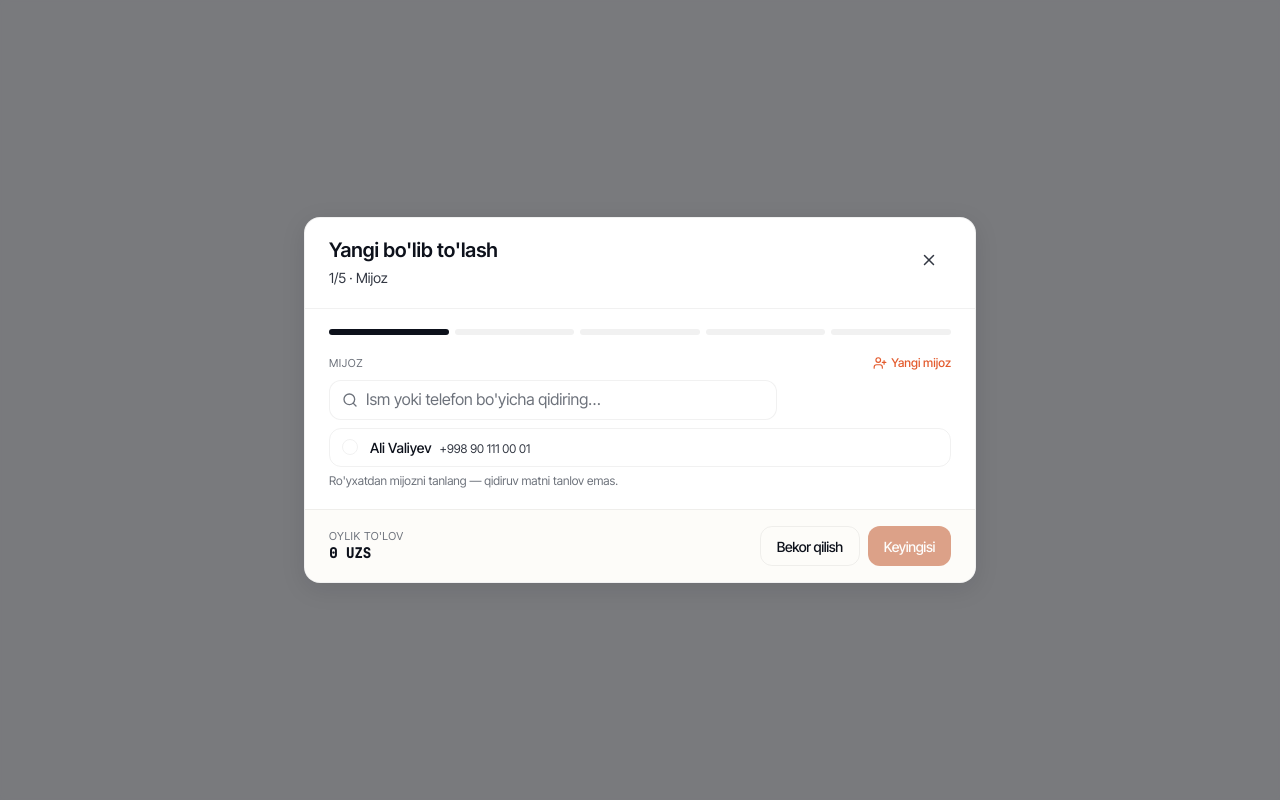
Test case: the identifier declares what it is › names both kinds rather than one ambiguous box
The width and height of the screenshot is (1280, 800).
What coordinates should you click on to do the following:
click the text "Ali Valiyev"
I would click on:
 (401, 447)
Its box is [370,438,432,456].
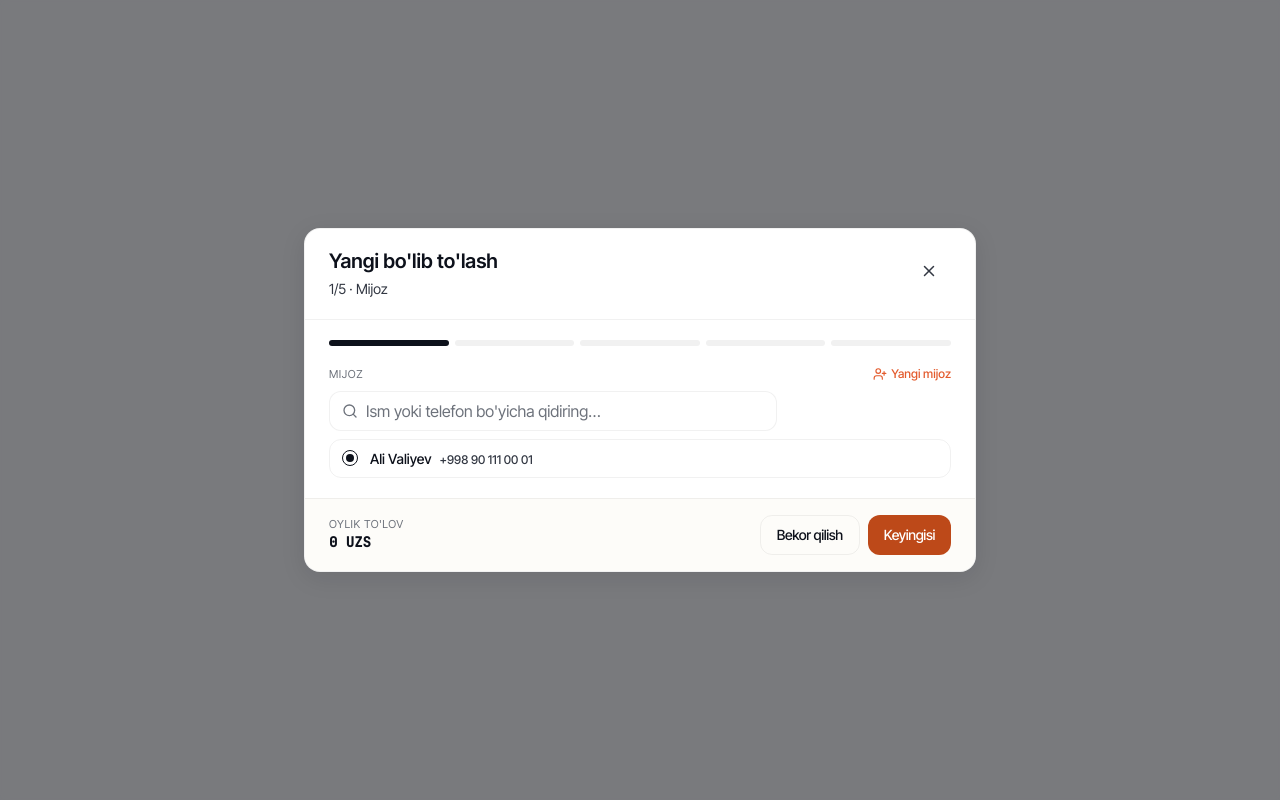
What coordinates should you click on to do the following:
click the button "Keyingisi"
I would click on:
 (909, 535)
Its box is [868,515,951,555].
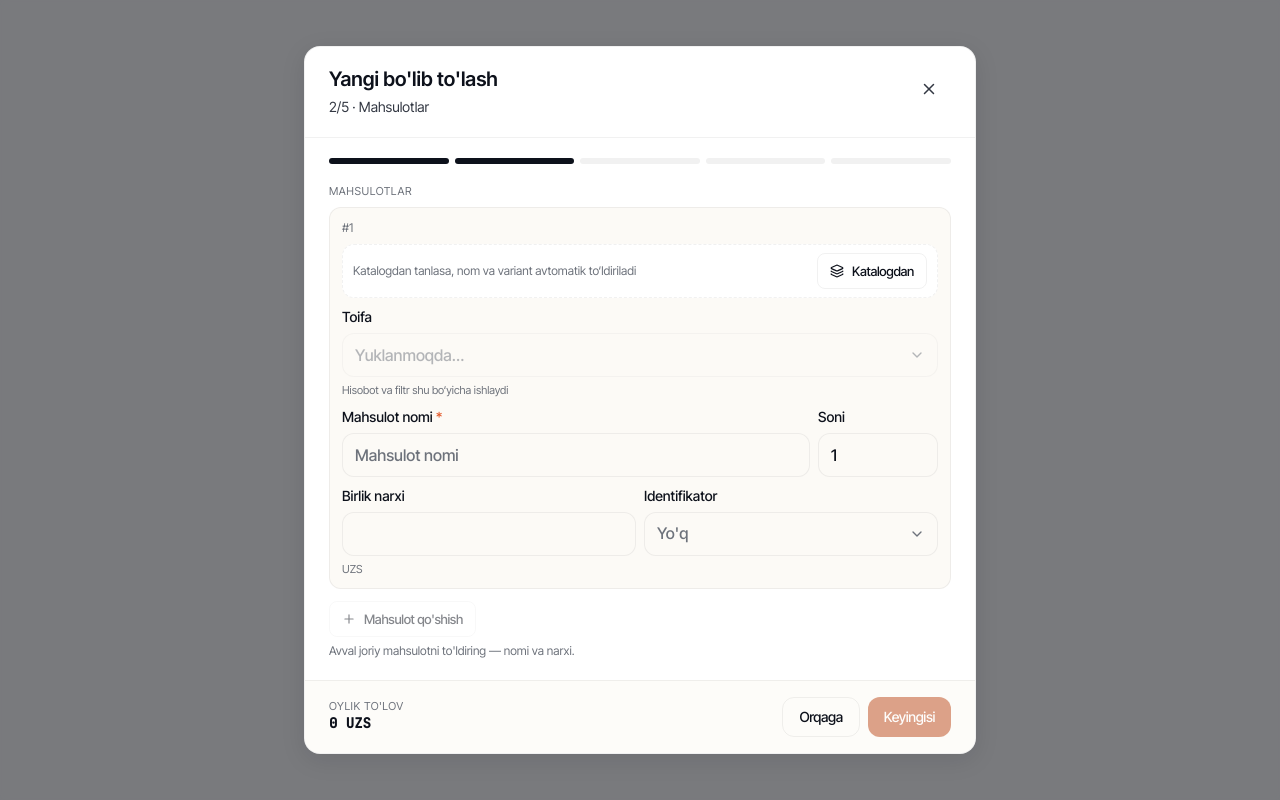
What coordinates should you click on to do the following:
click the dropdown "Yo'q"
I would click on:
 (673, 533)
Its box is [644,512,938,556].
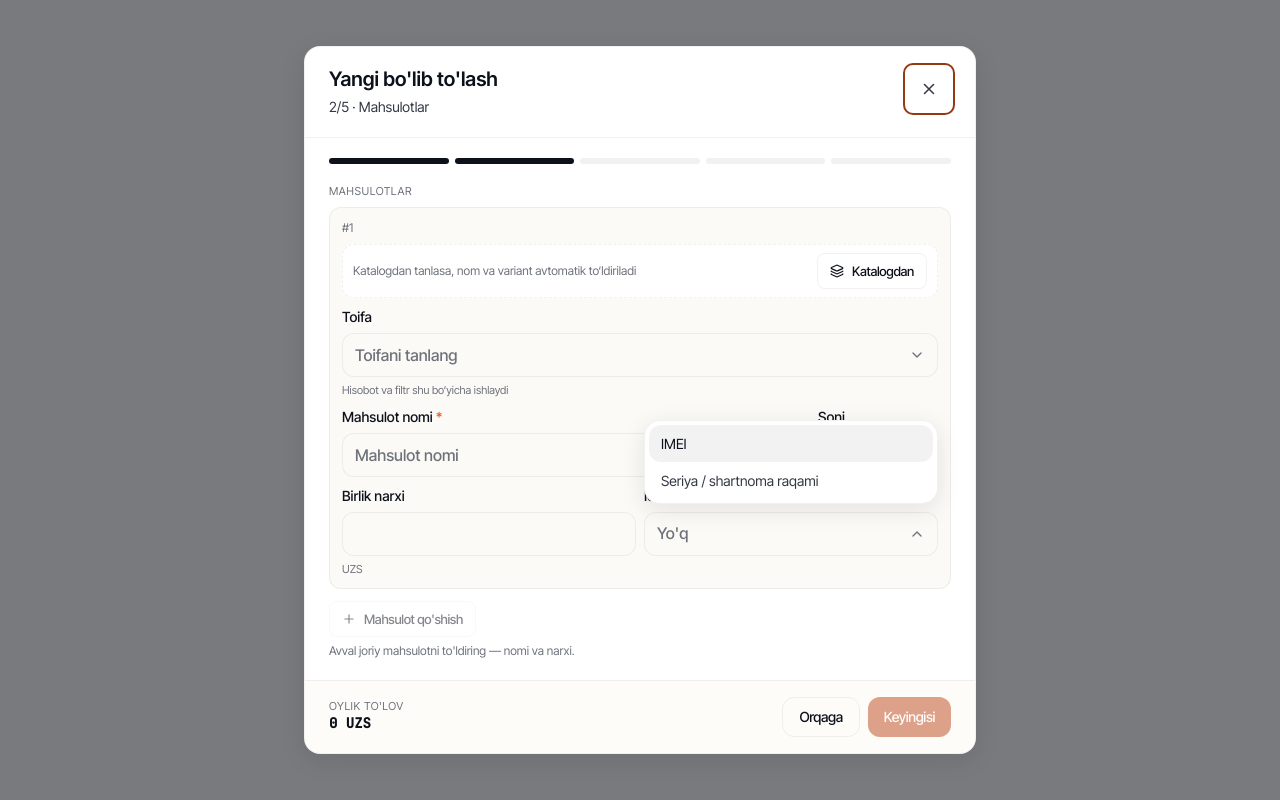
expect the text "IMEI" is shown: met, box [661,433,687,454]
expect the text "Seriya / shartnoma raqami" is shown: met, box [661,470,818,491]
